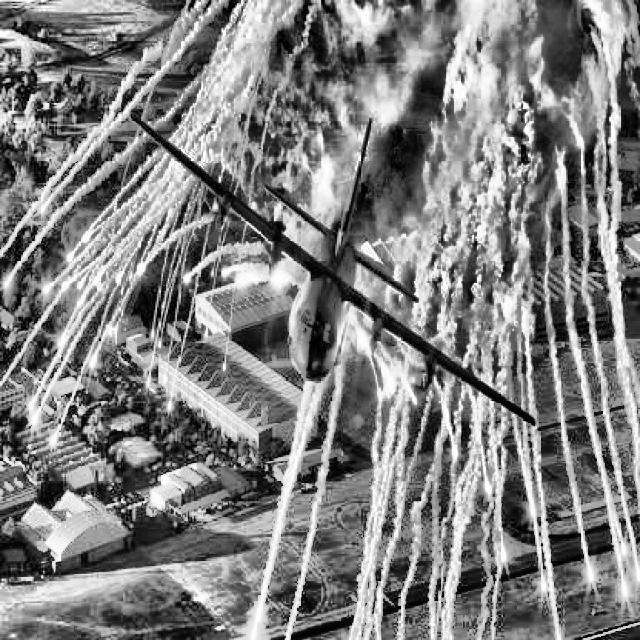C130: (129, 111, 536, 427)
